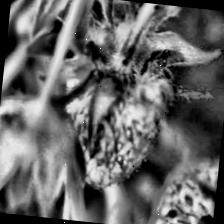Gray Mold: (47, 32, 218, 168)
